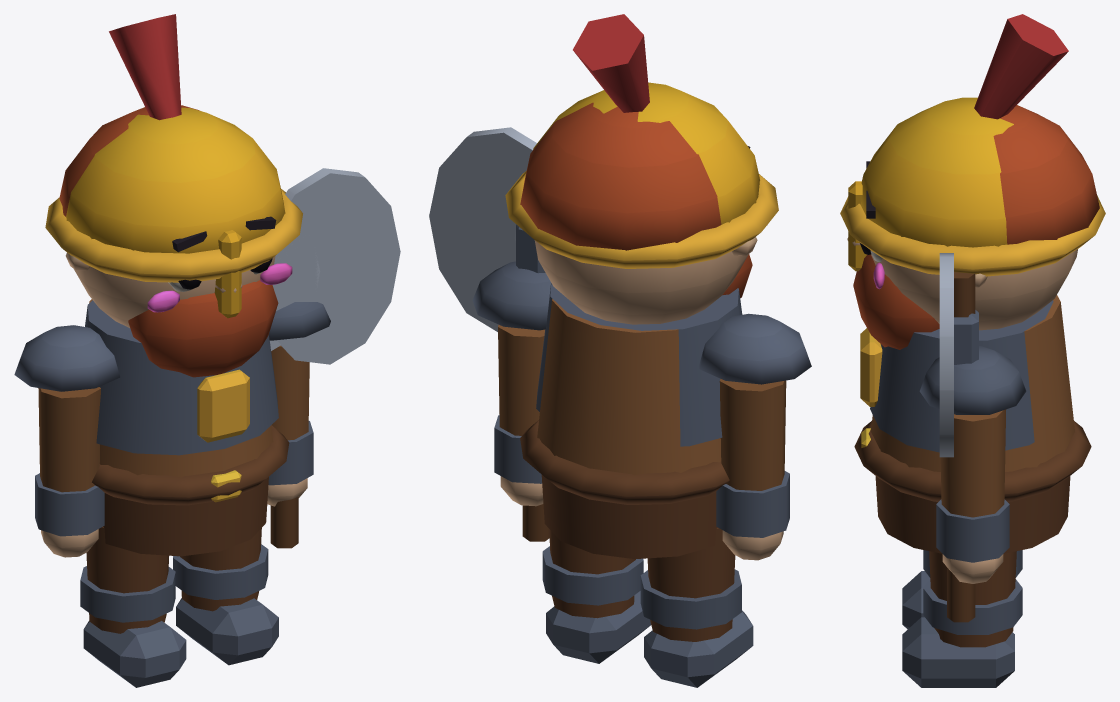
The model's file is hero_bram.glb.
The picture shows the model from 3 angles, left to right: view 1: azimuth 30°, elevation 25°; view 2: azimuth 150°, elevation 25°; view 3: azimuth 270°, elevation 25°; orthographic projection. The views are drawn at different scales.
Parts seen in each view (by area): view 1: body_t0_palette, armr_t0_palette, arml_t0_palette, legl_t0_palette, legr_t0_palette; view 2: body_t0_palette, armr_t0_palette, arml_t0_palette, legl_t0_palette, legr_t0_palette; view 3: body_t0_palette, armr_t0_palette, legr_t0_palette, legl_t0_palette.
Part boxes in pixels (x1,y1,x2,y2): body_t0_palette: (45, 14, 302, 556); armr_t0_palette: (267, 168, 400, 548); arml_t0_palette: (14, 325, 119, 557); legl_t0_palette: (80, 526, 186, 687); legr_t0_palette: (173, 528, 278, 665); body_t0_palette: (505, 14, 778, 559); armr_t0_palette: (429, 127, 551, 541); arml_t0_palette: (698, 313, 811, 560); legl_t0_palette: (640, 528, 753, 687); legr_t0_palette: (542, 529, 651, 663); body_t0_palette: (840, 14, 1105, 553); armr_t0_palette: (919, 253, 1026, 622); legr_t0_palette: (902, 551, 1022, 687); legl_t0_palette: (902, 550, 1022, 629).
Size of the model in its own units: 0.3601 by 0.5929 by 0.224.
